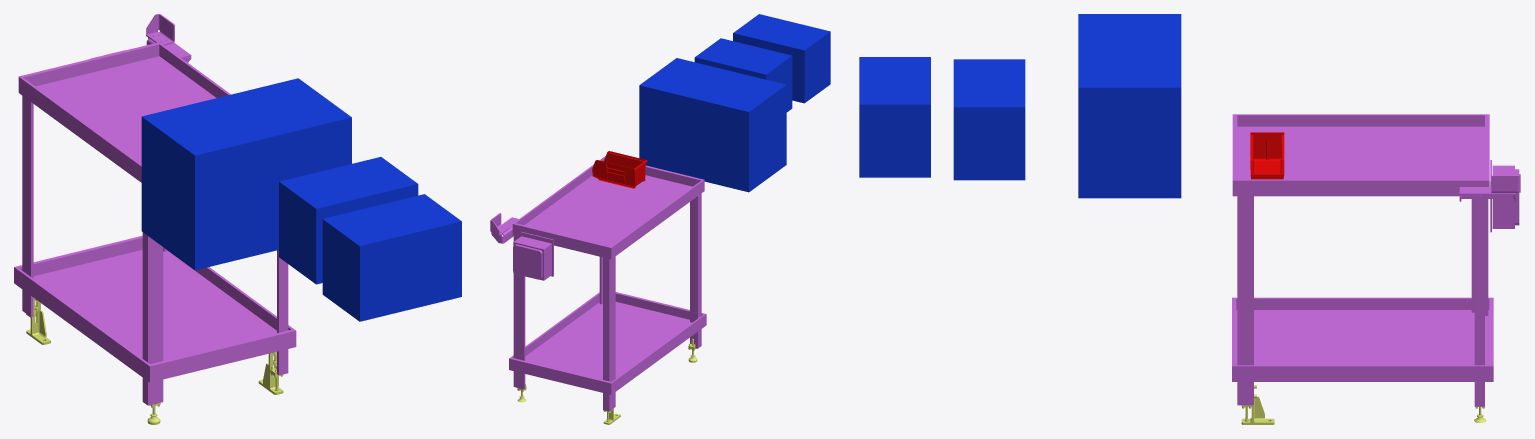
Rendered from Storage bin FBX.fbx.
3 views of the same model, side by side, from view 1: azimuth 30°, elevation 25°; view 2: azimuth 150°, elevation 25°; view 3: azimuth 270°, elevation 25° (orthographic). The views are drawn at different scales.
Parts seen in each view (by area): view 1: Tabel, Big cube, Small cube.001, Small cube, bottem pice; view 2: Tabel, Big cube, Small cube.001, Small cube, Tray, bottem pice; view 3: Tabel, Big cube, Small cube, Small cube.001, Tray, bottem pice.
Boxes of the visible parts, bbox=[...] form: Tabel: bbox=[14, 14, 296, 405]; Big cube: bbox=[141, 78, 351, 270]; Small cube.001: bbox=[322, 194, 461, 321]; Small cube: bbox=[279, 157, 418, 284]; bottem pice: bbox=[26, 297, 283, 424]; Tabel: bbox=[490, 156, 706, 411]; Big cube: bbox=[639, 58, 786, 192]; Small cube.001: bbox=[733, 14, 830, 103]; Small cube: bbox=[694, 38, 792, 112]; Tray: bbox=[592, 151, 647, 188]; bottem pice: bbox=[517, 339, 697, 424]; Tabel: bbox=[1232, 114, 1520, 406]; Big cube: bbox=[1078, 14, 1181, 198]; Small cube: bbox=[953, 59, 1025, 180]; Small cube.001: bbox=[859, 57, 930, 177]; Tray: bbox=[1250, 132, 1284, 179]; bottem pice: bbox=[1241, 385, 1486, 424].
Size of the model in its own units: 88.52 by 149 by 271.
